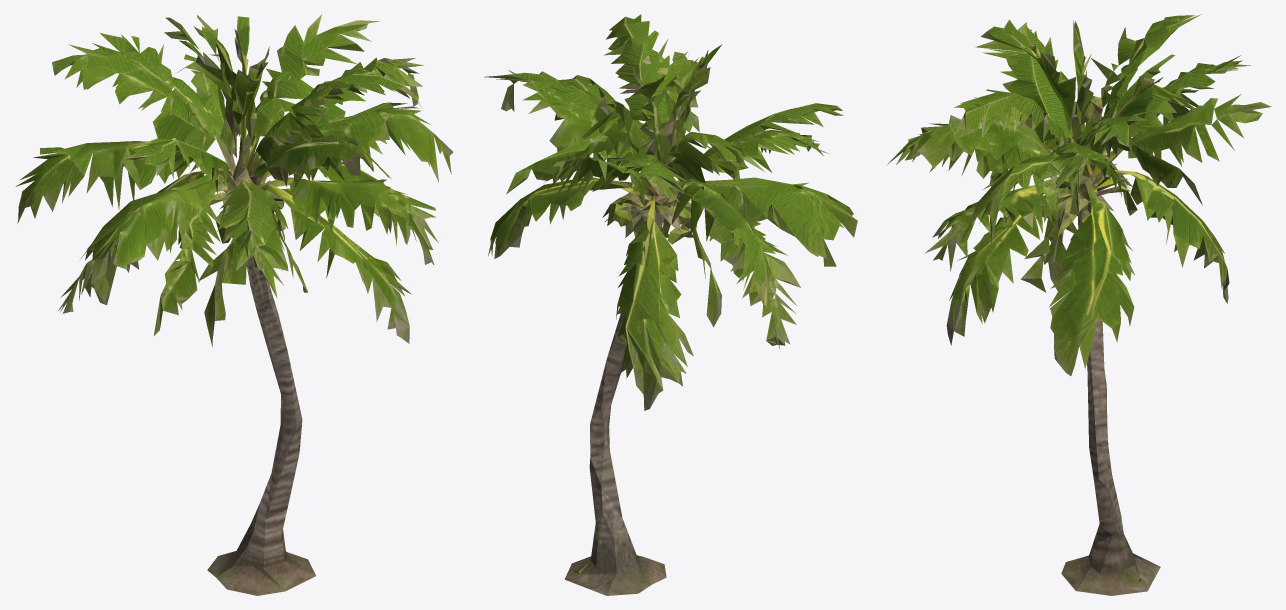
Rendered from palm.glb.
3 renders of one model, left to right at view 1: azimuth 30°, elevation 25°; view 2: azimuth 150°, elevation 25°; view 3: azimuth 270°, elevation 25°, orthographic. The views are drawn at different scales.
Parts seen in each view (by area): view 1: Mesh_0; view 2: Mesh_0; view 3: Mesh_0.
Boxes of the visible parts, x1,y1,x2,y2 form: Mesh_0: (15,14,453,595); Mesh_0: (484,14,857,595); Mesh_0: (887,14,1271,595).
Size of the model in its own units: 1.28 by 1.87 by 1.26.
1 material, 1 textured.
